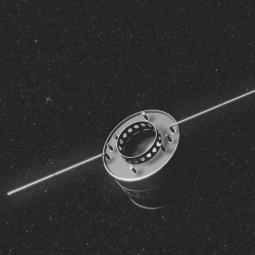double_start: (102, 93, 218, 222)
